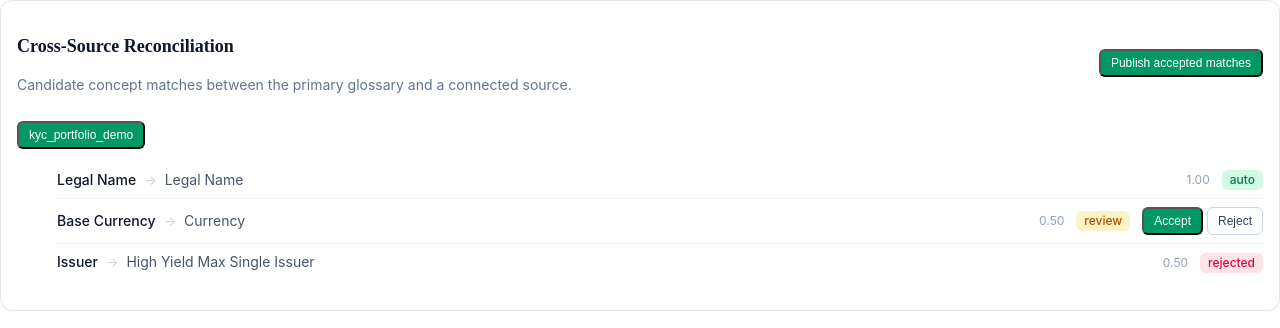
Test: accepting a review match promotes it to auto in the list
This screenshot has width=1280, height=328.
What coordinates should you click on to do the following:
click the button "Accept"
I would click on:
 (1173, 221)
Its box is [1142,207,1203,235].
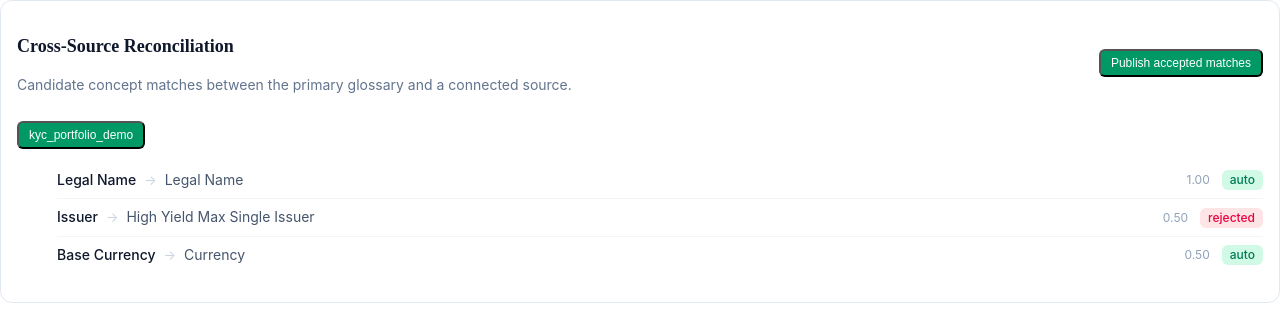
Expected: the text "auto" in the row of "Base Currency" is shown, [1230,247,1255,262]
